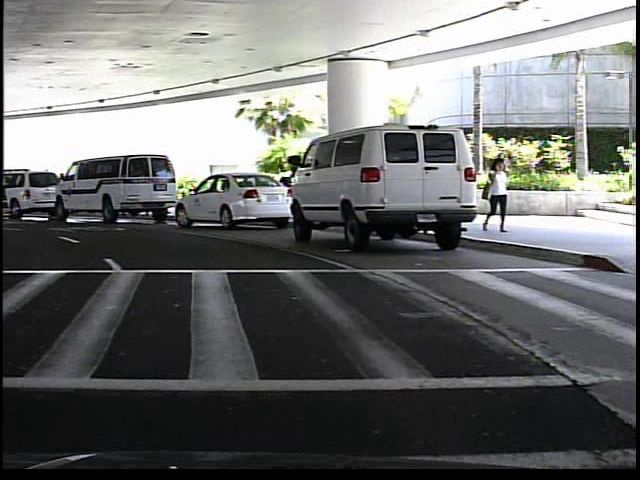person: (478, 152, 509, 235)
